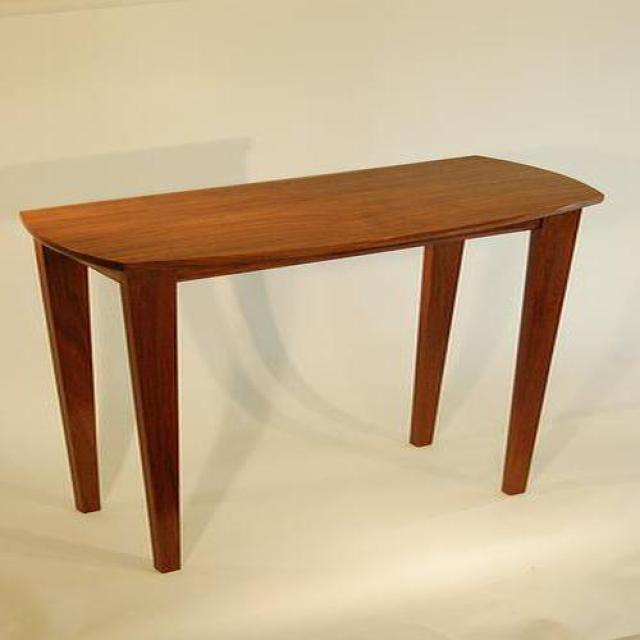table: (19, 156, 605, 576)
